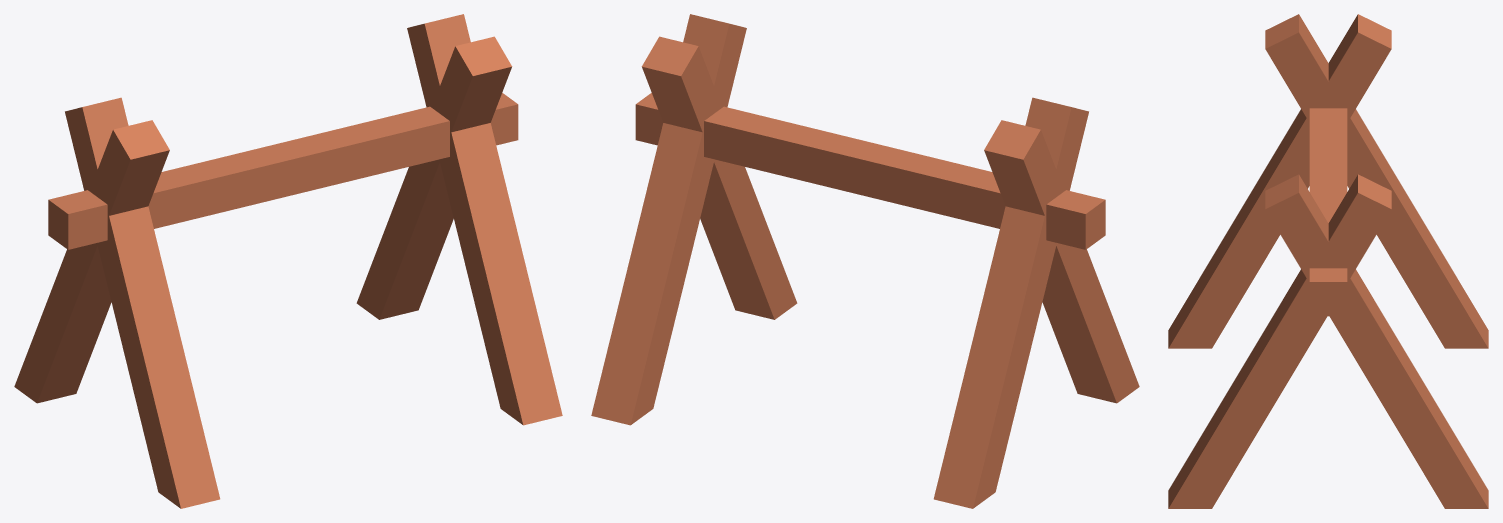
File: campfire-fishing-stand.obj
3 views of the same model, side by side, from view 1: azimuth 30°, elevation 25°; view 2: azimuth 150°, elevation 25°; view 3: azimuth 270°, elevation 25° (orthographic). The views are drawn at different scales.
Size of the model in its own units: 0.3945 by 0.276 by 0.2533.
